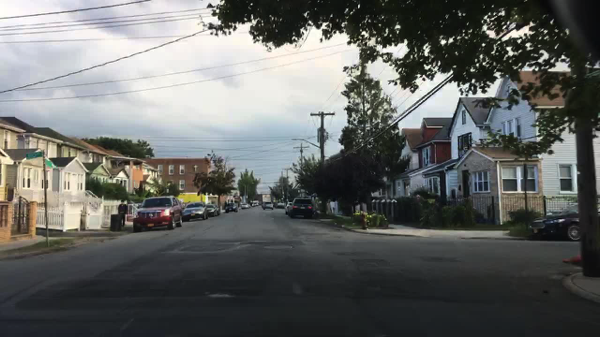car: (528, 194, 599, 240), (132, 195, 184, 234), (184, 201, 209, 223), (289, 198, 313, 220), (206, 203, 221, 219), (225, 202, 239, 214), (285, 200, 293, 214), (263, 201, 274, 211), (275, 200, 285, 209), (242, 202, 248, 209), (251, 200, 256, 208)
person: (117, 199, 129, 228)
traffic sign: (25, 152, 44, 161), (44, 159, 52, 170)
truck: (262, 194, 271, 205)
